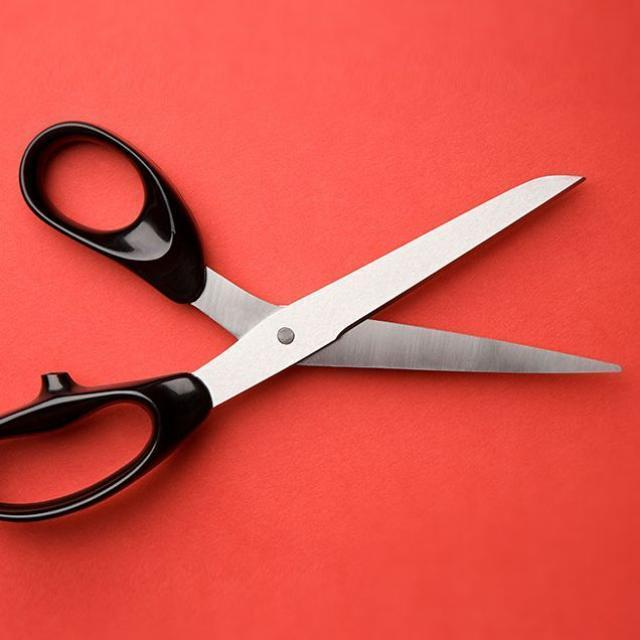scissors: (0, 118, 633, 524)
